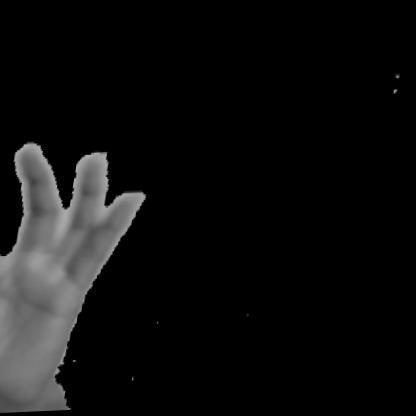ok: (0, 121, 169, 414)
